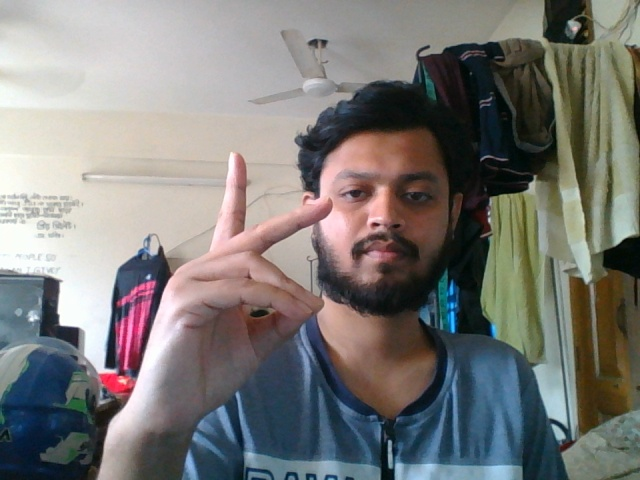na: (125, 145, 337, 458)
